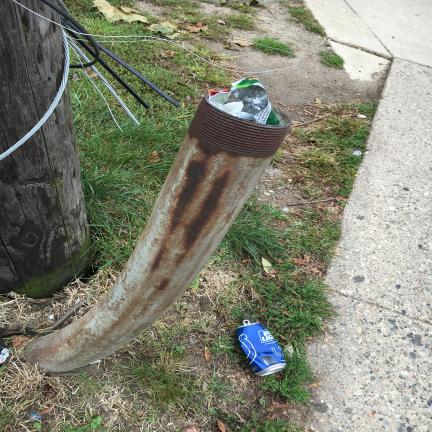karat: (27, 96, 290, 372)
